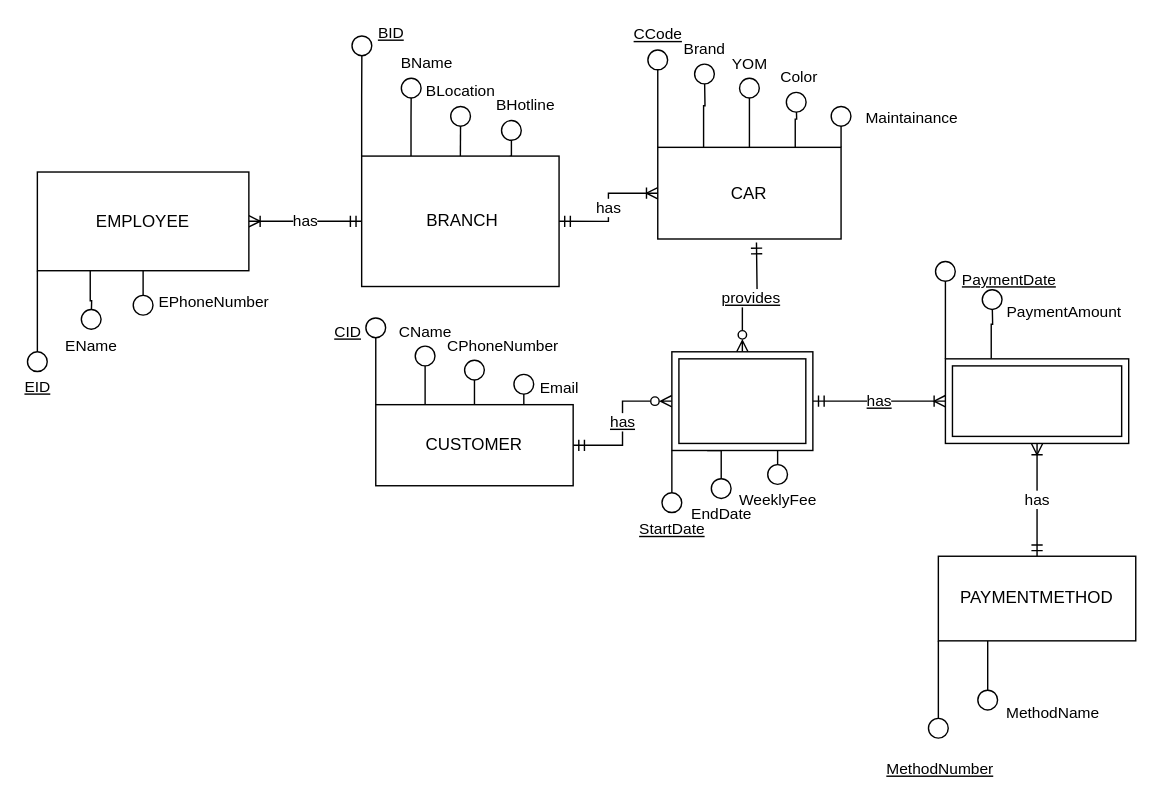
The diagram is 1160 pixels wide and 802 high, and some of its shapes have lost their labels. The shapes that lost their labels are listed below. From the top down, each one's centre as x and y in pixels, then its label:
At point 741,400: "CONTRACT".
At point 1036,400: "PAYMENT".
